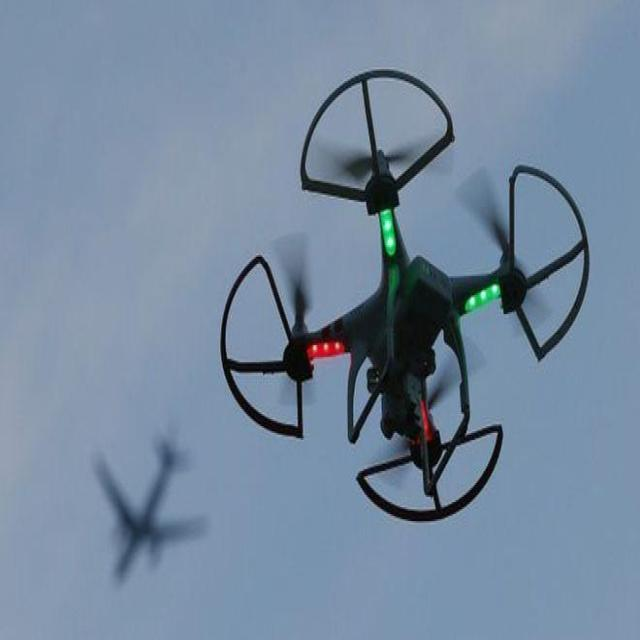drone: (220, 68, 592, 525)
